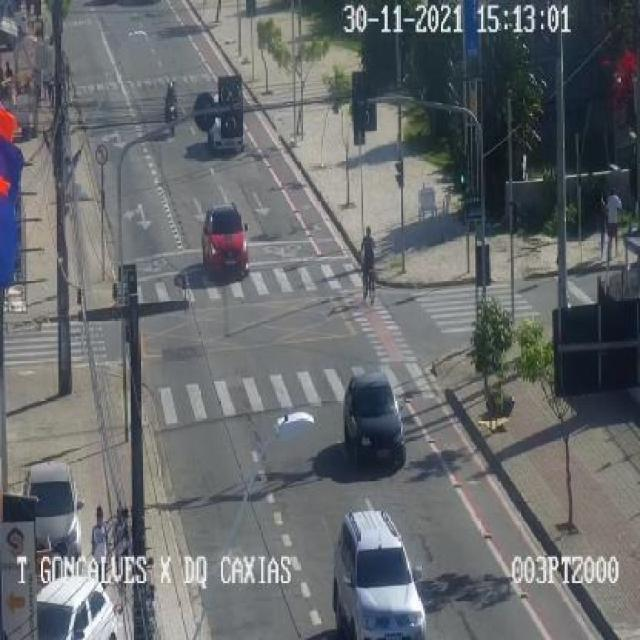Car: (333, 511, 427, 638), (344, 371, 407, 470), (22, 462, 83, 558), (35, 577, 118, 640), (201, 203, 250, 279)
Cycle: (165, 96, 180, 138)
